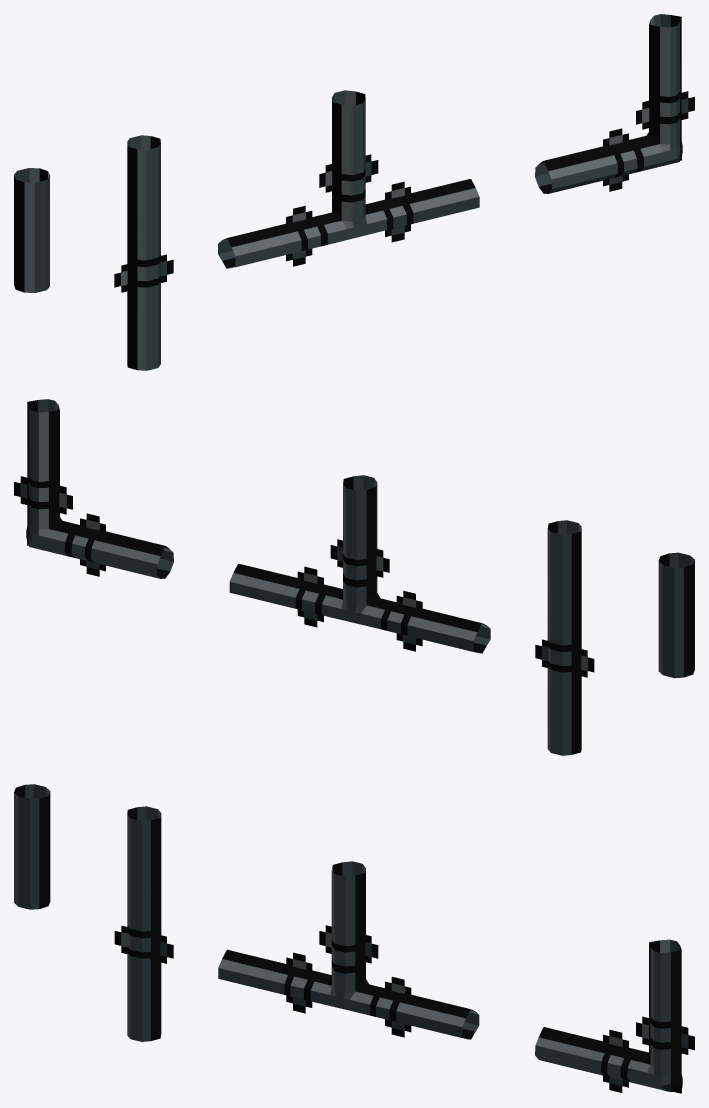
Rendered from Pipa.fbx.
3 views of the same model, one above another, from view 1: azimuth 30°, elevation 25°; view 2: azimuth 150°, elevation 25°; view 3: azimuth 330°, elevation 25° (orthographic).
Parts seen in each view (by area): view 1: Pipa.003, Pipa.004, Pipa.002, Pipa.001; view 2: Pipa.003, Pipa.004, Pipa.002, Pipa.001; view 3: Pipa.003, Pipa.004, Pipa.002, Pipa.001.
Part boxes in pixels (bbox=[...]): Pipa.003: bbox=[218, 90, 479, 268]; Pipa.004: bbox=[535, 14, 694, 193]; Pipa.002: bbox=[114, 135, 173, 370]; Pipa.001: bbox=[14, 168, 49, 292]; Pipa.003: bbox=[229, 475, 490, 653]; Pipa.004: bbox=[14, 399, 173, 578]; Pipa.002: bbox=[535, 520, 594, 755]; Pipa.001: bbox=[658, 552, 694, 678]; Pipa.003: bbox=[218, 861, 479, 1039]; Pipa.004: bbox=[535, 939, 694, 1093]; Pipa.002: bbox=[114, 806, 173, 1041]; Pipa.001: bbox=[14, 784, 50, 909].
Size of the model in its own units: 14.48 by 322 by 100.
1 material, 1 textured.
